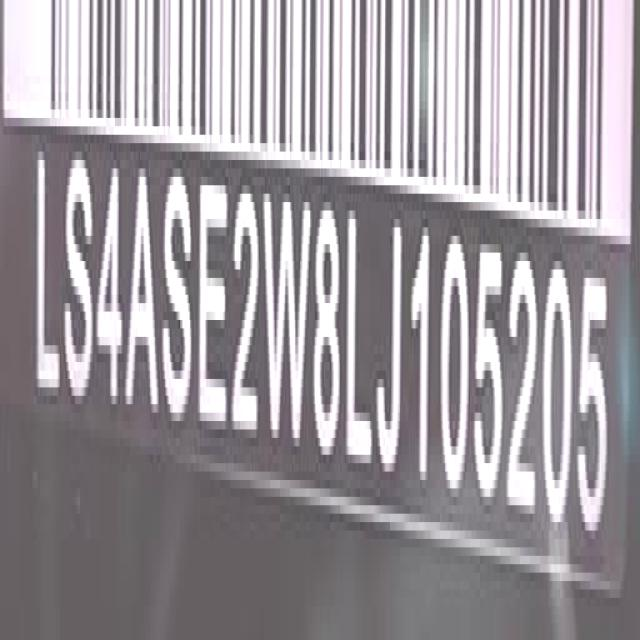0: (441, 208, 473, 508), (544, 240, 576, 538)
1: (409, 194, 437, 497)
2: (509, 226, 542, 525), (232, 166, 261, 450)
4: (96, 136, 125, 420)
5: (474, 213, 506, 515), (578, 258, 611, 542)
8: (313, 188, 342, 470)
A: (127, 146, 164, 426)
E: (197, 158, 231, 442)
J: (374, 219, 406, 485)
L: (347, 190, 373, 479), (34, 138, 62, 401)
S: (162, 138, 194, 439), (63, 138, 95, 414)
W: (267, 168, 314, 464)
